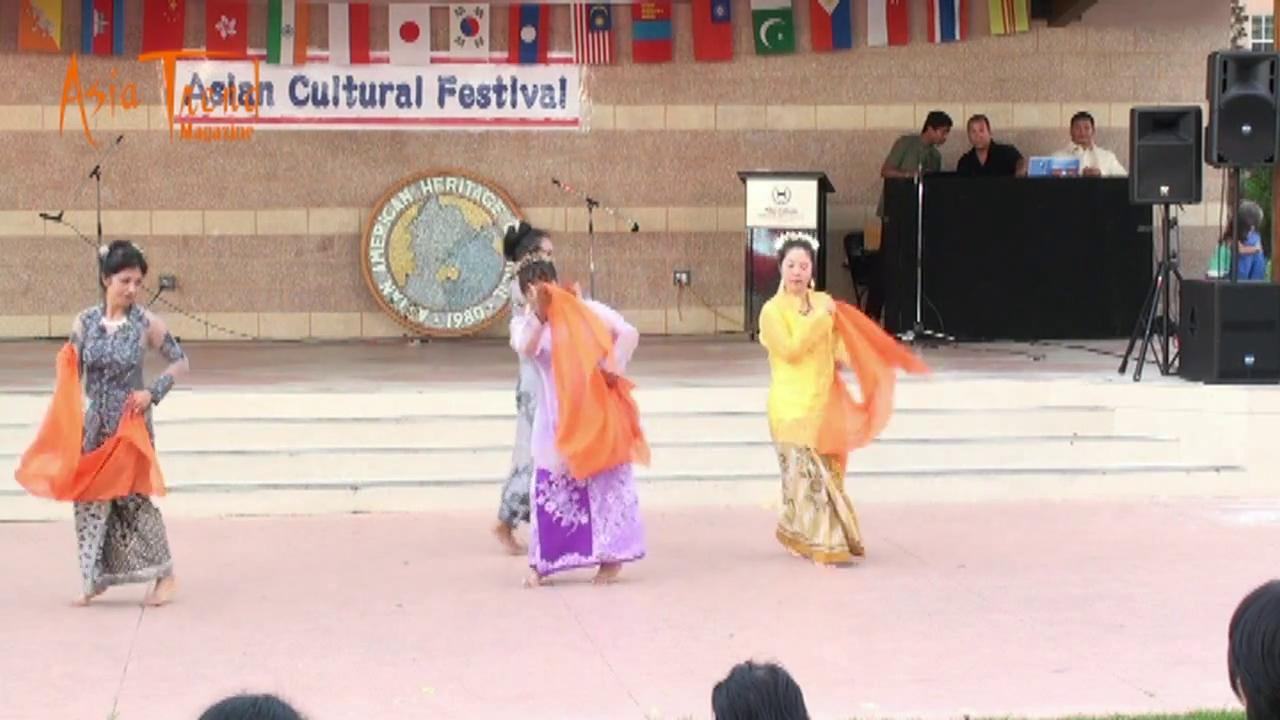victim: (66, 238, 198, 611), (516, 266, 656, 593), (750, 229, 884, 570), (492, 218, 574, 555)
